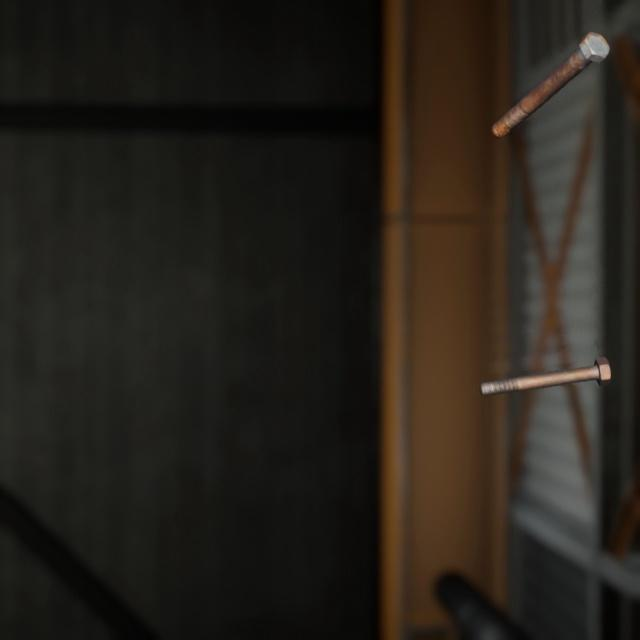bolt: (487, 15, 614, 131), (474, 333, 615, 381)
